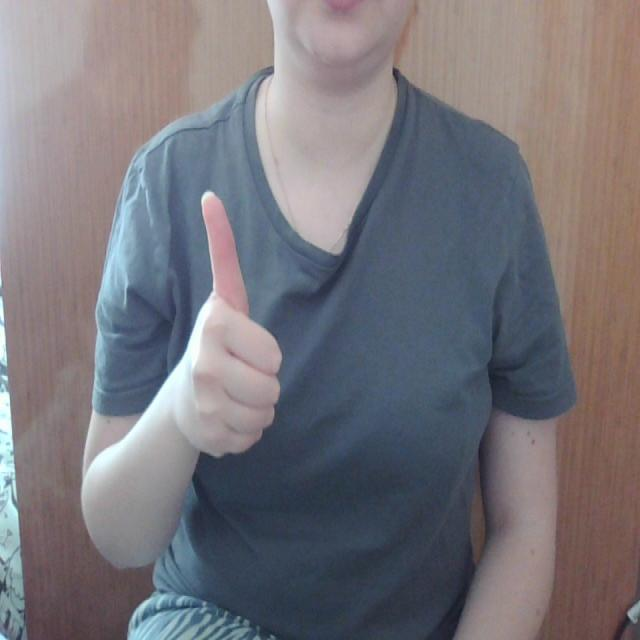Tamam: (178, 186, 283, 461)
